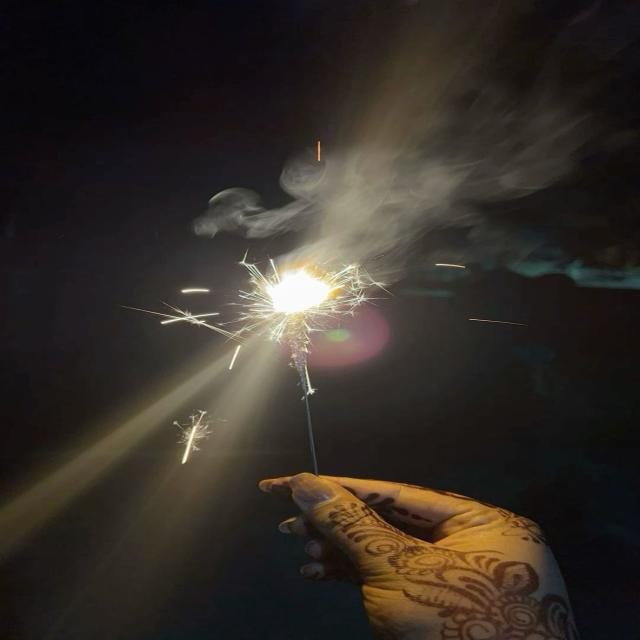fire: (266, 268, 342, 311)
